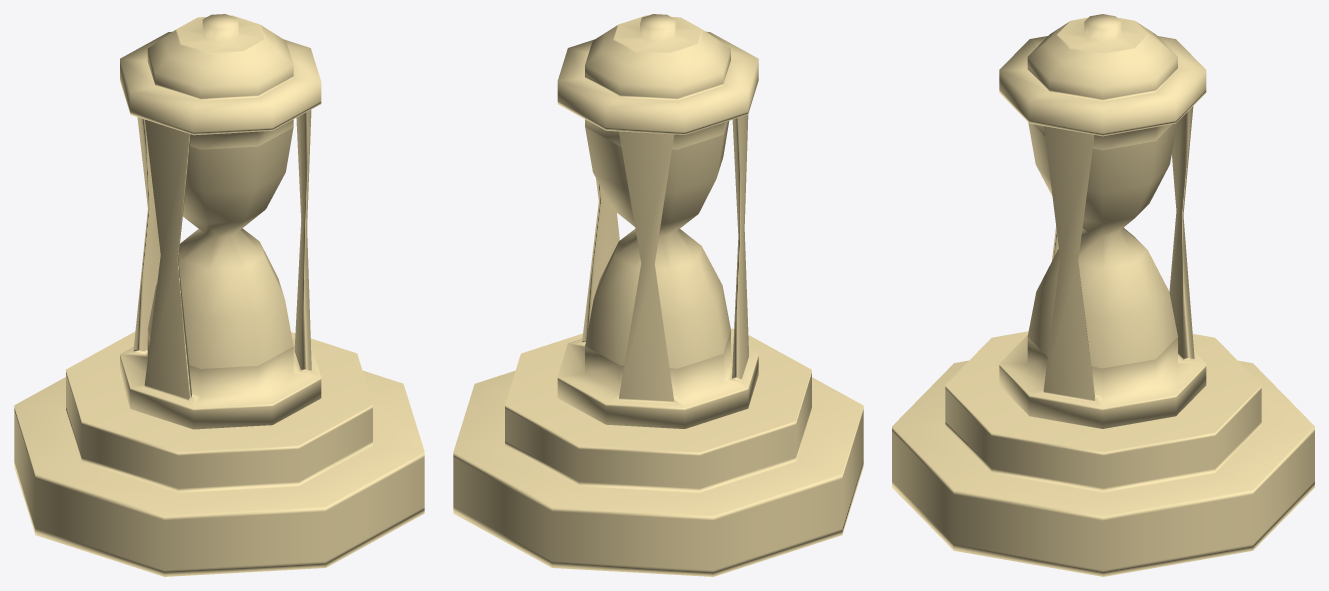
File: Torre_alqui.fbx
The picture shows the model from 3 angles, left to right: view 1: azimuth 30°, elevation 25°; view 2: azimuth 150°, elevation 25°; view 3: azimuth 270°, elevation 25°; orthographic projection.
Visible parts, largest first — view 1: Base_Torre1; view 2: Base_Torre1; view 3: Base_Torre1.
Boxes of the visible parts, bbox=[...] form: Base_Torre1: bbox=[14, 14, 424, 576]; Base_Torre1: bbox=[453, 14, 863, 576]; Base_Torre1: bbox=[892, 14, 1314, 576].
Size of the model in its own units: 6.02 by 7.32 by 6.02.
